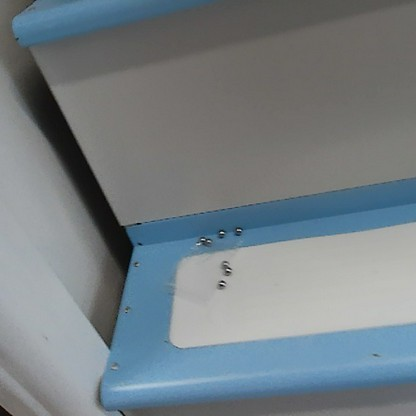ironball: (214, 225, 229, 240), (231, 223, 244, 236), (214, 277, 225, 291), (196, 232, 207, 244), (219, 255, 229, 268), (204, 238, 214, 250), (223, 266, 233, 276)
